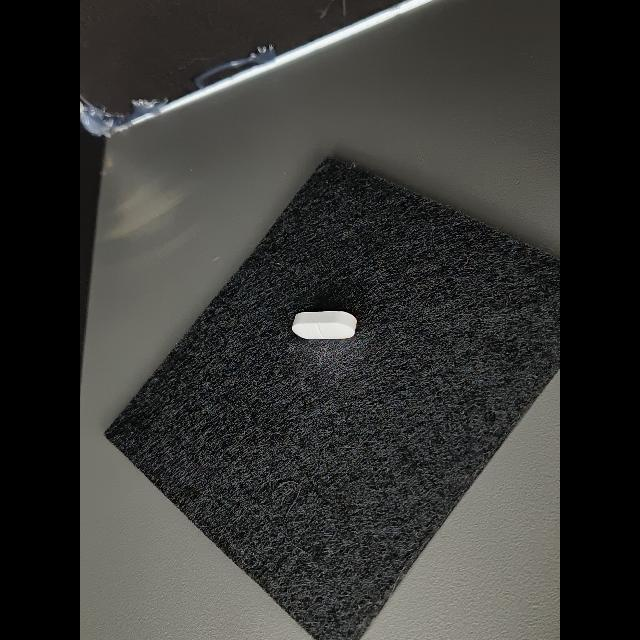Intact Pill: (292, 311, 357, 339)
